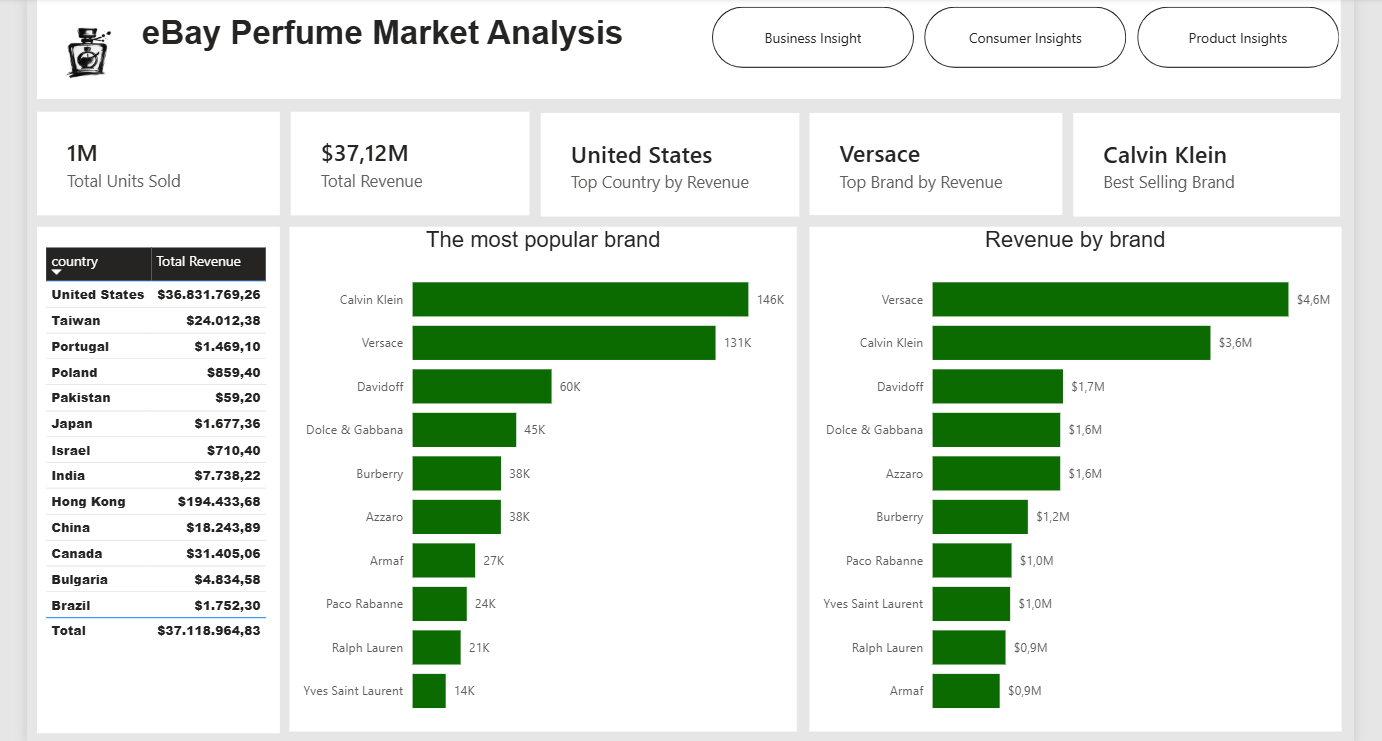

The page's visual inventory and layout, read from the dashboard file:
{"tool":"powerbi","page":{"name":"Executive Overview","canvas":[1280,720],"ordinal":0},"visuals":[{"type":"shape","box":[9.6,0,1258.3,97.4],"z":0},{"type":"textbox","box":[9.7,10.9,667.2,67.6],"z":1000},{"type":"cardVisual","fields":{"Data":["Fact_PerfumeSales.Total Revenue"]},"box":[254.5,110.1,230.5,100.2],"z":2000},{"type":"cardVisual","fields":{"Data":["Fact_PerfumeSales.Total Units Sold"]},"box":[9.6,109.8,234.6,100.2],"z":3000},{"type":"cardVisual","fields":{"Data":["Fact_PerfumeSales.Best Selling Brand"]},"box":[1010,110.8,258,100.2],"z":4000},{"type":"cardVisual","fields":{"Data":["Fact_PerfumeSales.Top Brand by Revenue"]},"box":[755.4,111.1,244.3,98.8],"z":5000},{"type":"cardVisual","fields":{"Data":["Fact_PerfumeSales.Top Country by Revenue"]},"box":[495.4,110.5,249.7,100.2],"z":6000},{"type":"tableEx","fields":{"Values":["Fact_PerfumeSales.country","Fact_PerfumeSales.Total Revenue"]},"box":[9.7,220.8,234,488.6],"z":7000},{"type":"barChart","title":" Revenue by brand","fields":{"Category":["Fact_PerfumeSales.brand"],"Y":["Fact_PerfumeSales.Total Revenue"]},"box":[754.7,220.9,513.2,487.1],"z":8000},{"type":"clusteredBarChart","title":"The most popular brand","fields":{"Category":["Fact_PerfumeSales.brand"],"Y":["Sum(Fact_PerfumeSales.sold)"]},"box":[253.9,220.9,489.9,487.1],"z":9000},{"type":"image","box":[0,0,117,109.8],"z":10000},{"type":"pageNavigator","box":[661.1,8.4,606.8,59.1],"z":10001}]}

Visuals, with their boxes on the page's 1280x720 design canvas (x1, y1, x2, y2). These are canvas units, not pixel positions in the 1382x741 screenshot, which may show the page scaled, cropped or inside an application window:
shape: bbox=[10, 0, 1268, 97]
textbox: bbox=[10, 11, 677, 78]
cardVisual - Fact_PerfumeSales.Total Revenue: bbox=[254, 110, 485, 210]
cardVisual - Fact_PerfumeSales.Total Units Sold: bbox=[10, 110, 244, 210]
cardVisual - Fact_PerfumeSales.Best Selling Brand: bbox=[1010, 111, 1268, 211]
cardVisual - Fact_PerfumeSales.Top Brand by Revenue: bbox=[755, 111, 1000, 210]
cardVisual - Fact_PerfumeSales.Top Country by Revenue: bbox=[495, 110, 745, 211]
tableEx - Fact_PerfumeSales.country x Fact_PerfumeSales.Total Revenue: bbox=[10, 221, 244, 709]
" Revenue by brand" barChart: bbox=[755, 221, 1268, 708]
"The most popular brand" clusteredBarChart: bbox=[254, 221, 744, 708]
image: bbox=[0, 0, 117, 110]
pageNavigator: bbox=[661, 8, 1268, 68]
